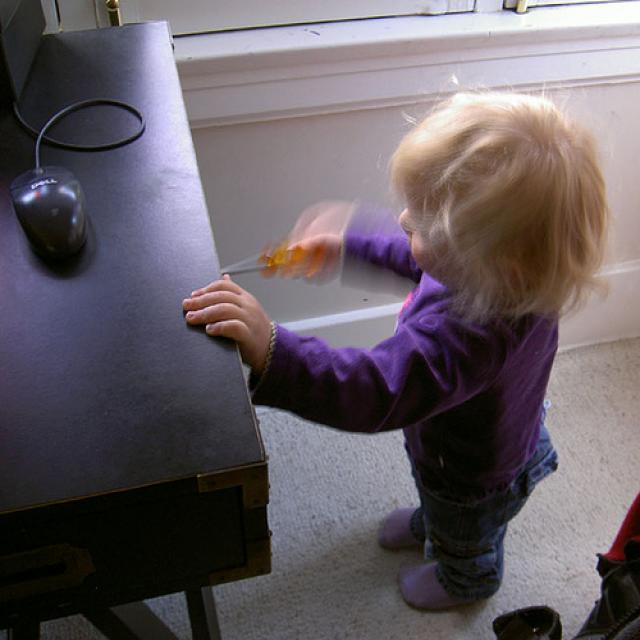screwdriver: (214, 230, 353, 284)
